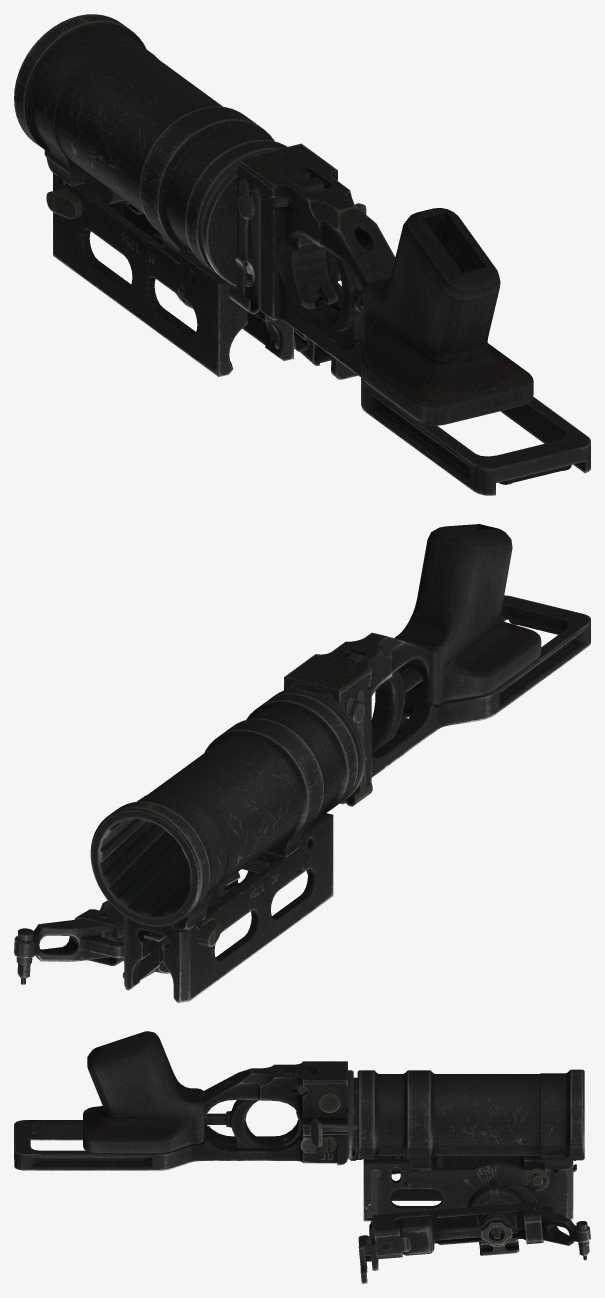
3 views of the same model, one above another, from view 1: azimuth 30°, elevation 25°; view 2: azimuth 150°, elevation 25°; view 3: azimuth 270°, elevation 25° (orthographic). The views are drawn at different scales.
Parts seen in each view (by area): view 1: TW_62e7e7bbe6da9612f743f1e0_PZ_Import; view 2: TW_62e7e7bbe6da9612f743f1e0_PZ_Import; view 3: TW_62e7e7bbe6da9612f743f1e0_PZ_Import.
Boxes of the visible parts, bbox=[...] form: TW_62e7e7bbe6da9612f743f1e0_PZ_Import: bbox=[14, 14, 590, 495]; TW_62e7e7bbe6da9612f743f1e0_PZ_Import: bbox=[14, 524, 590, 1002]; TW_62e7e7bbe6da9612f743f1e0_PZ_Import: bbox=[14, 1031, 590, 1283].
Bounding box in the file's own units: 0.0529 × 0.187 × 0.0716.
1 material, 1 textured.
